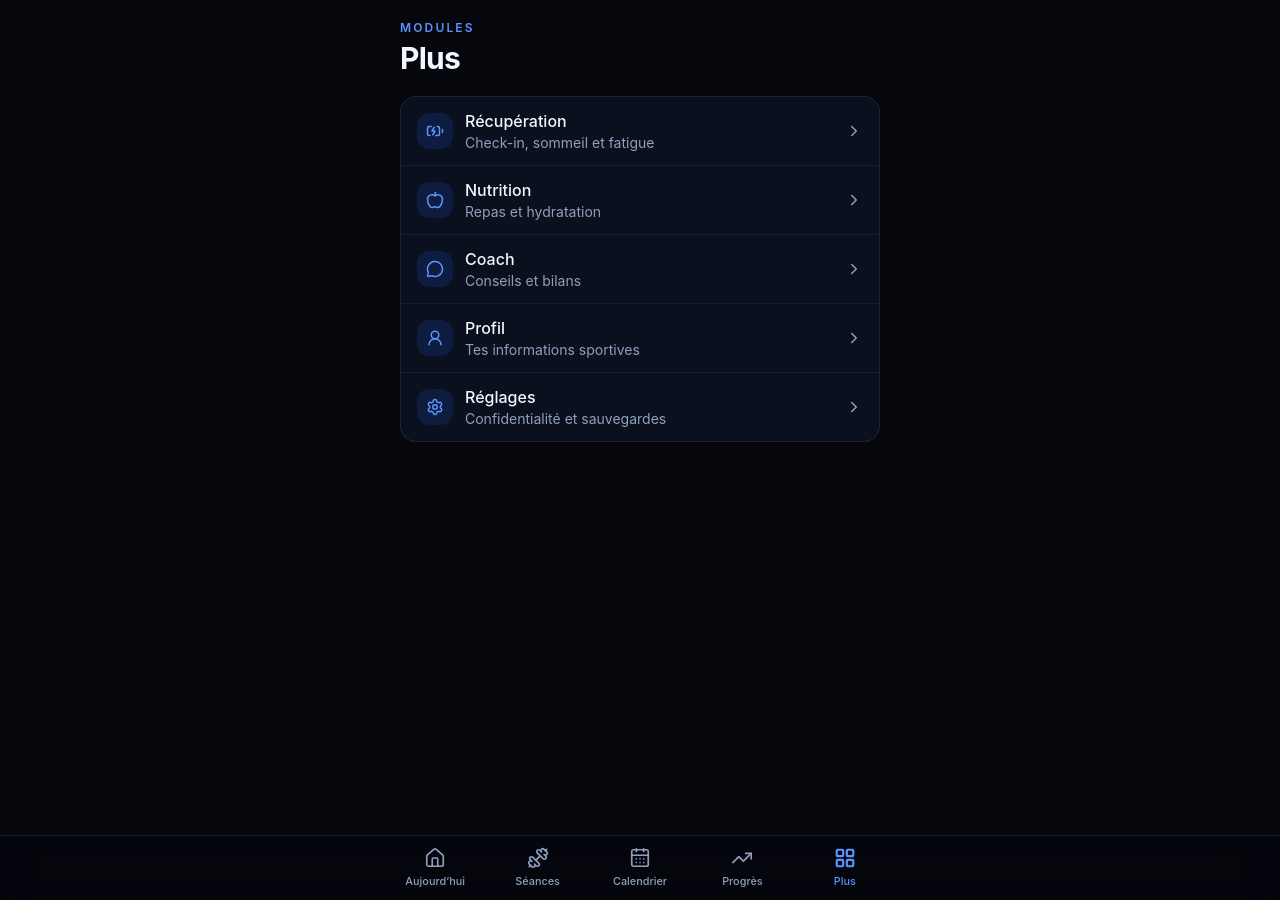
Test: barre de navigation › ouvre un module secondaire depuis « Plus » en gardant l’onglet actif
The image size is (1280, 900).
Click the link "Nutrition Repas et hydratation" at [435, 200], box [417,180,863,220]
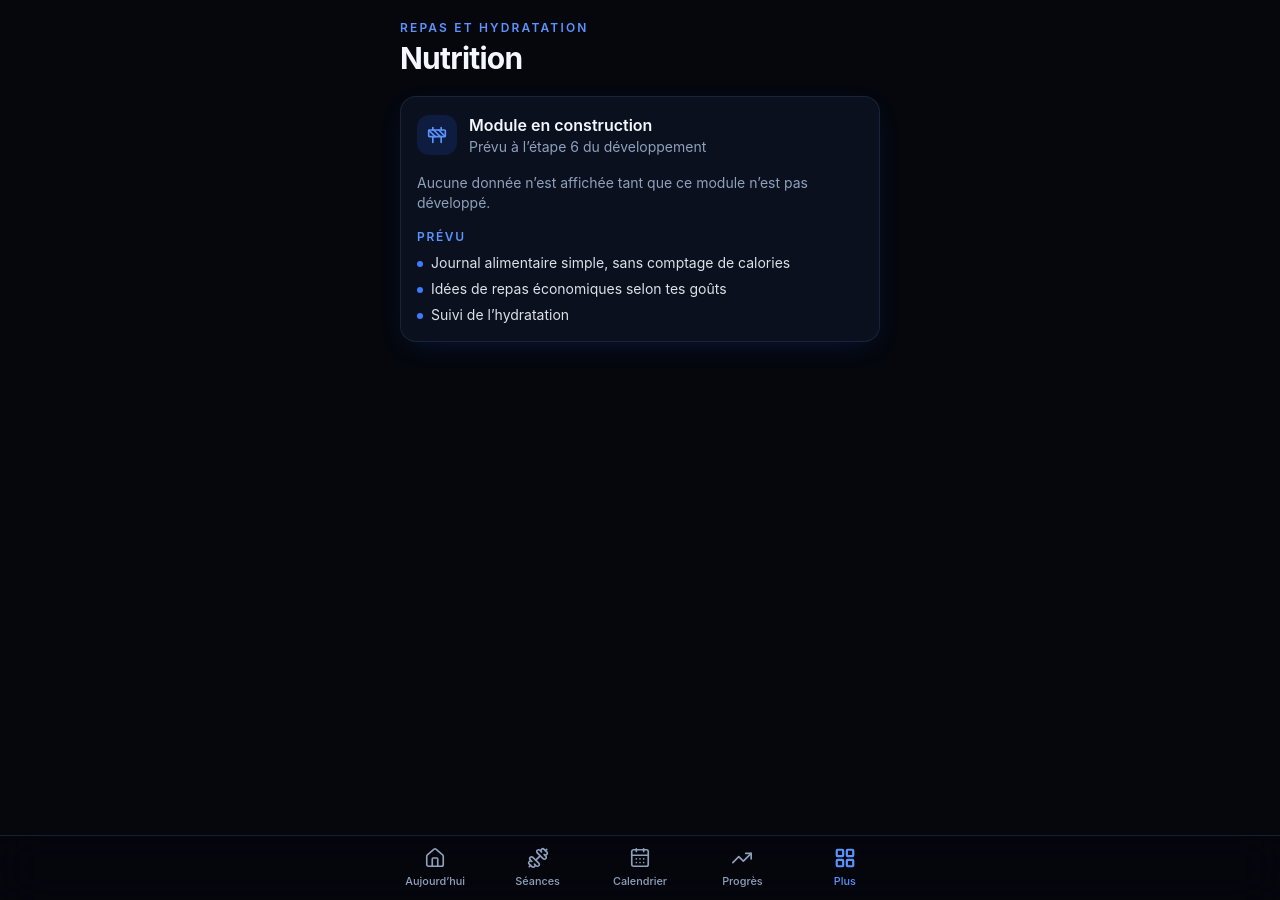
Expected: the heading "Nutrition" is shown, [400,40,522,76]
